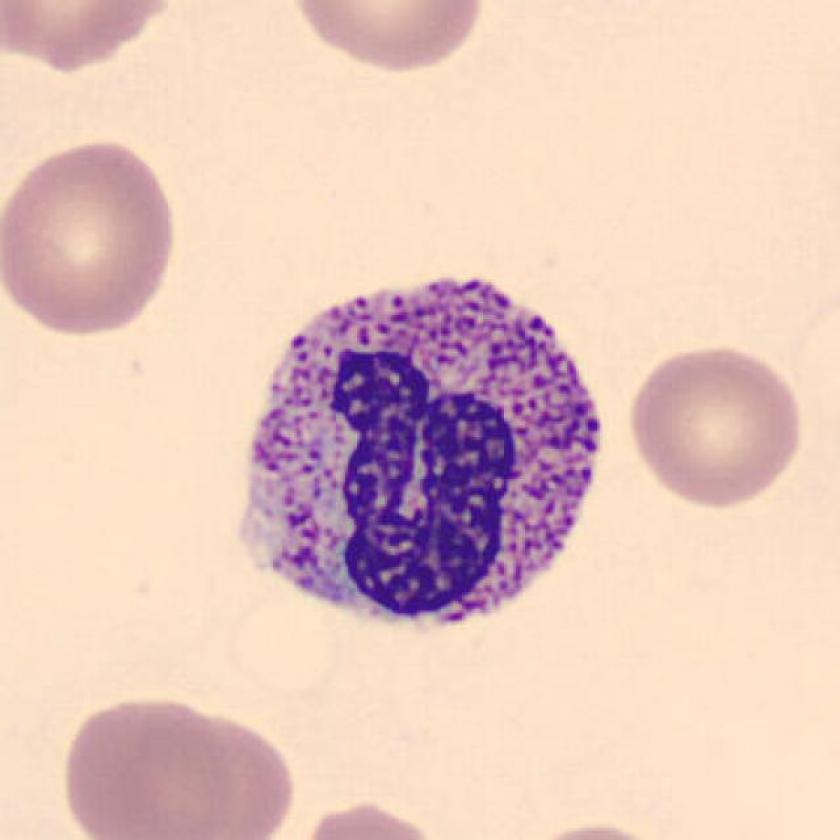neutrophil: (240, 279, 602, 634)
